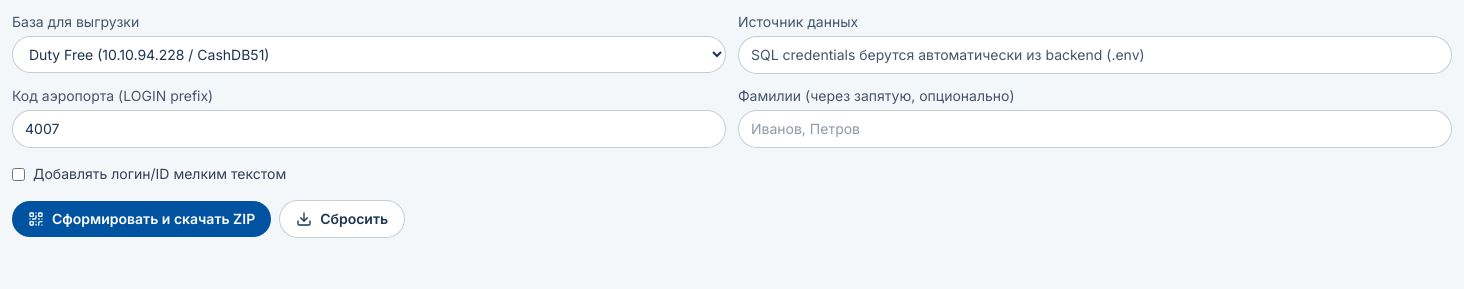
it: OneCQrPanel › shows a detailed backend error
Click the button "Сформировать и скачать ZIP": (142, 219) [12,201,271,237]
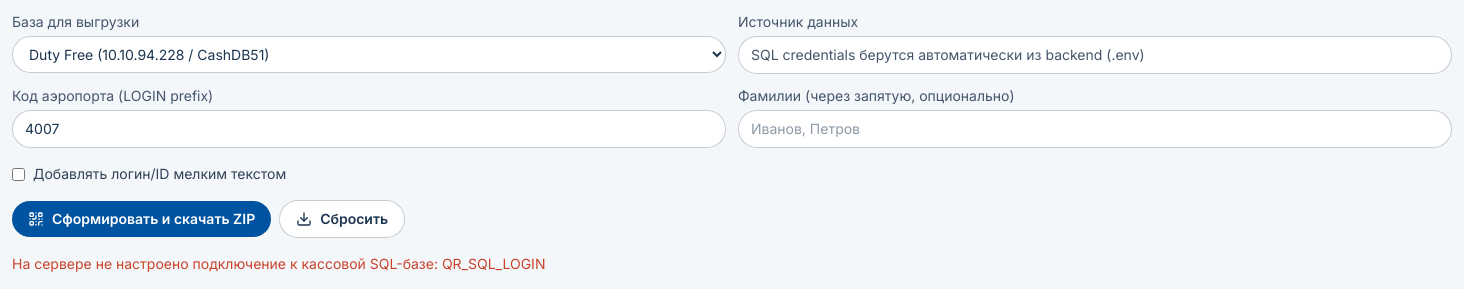
Result: the text "На сервере не настроено подключение к кассовой SQL-базе: QR_SQL_LOGIN" is shown at [12,255,545,272]
